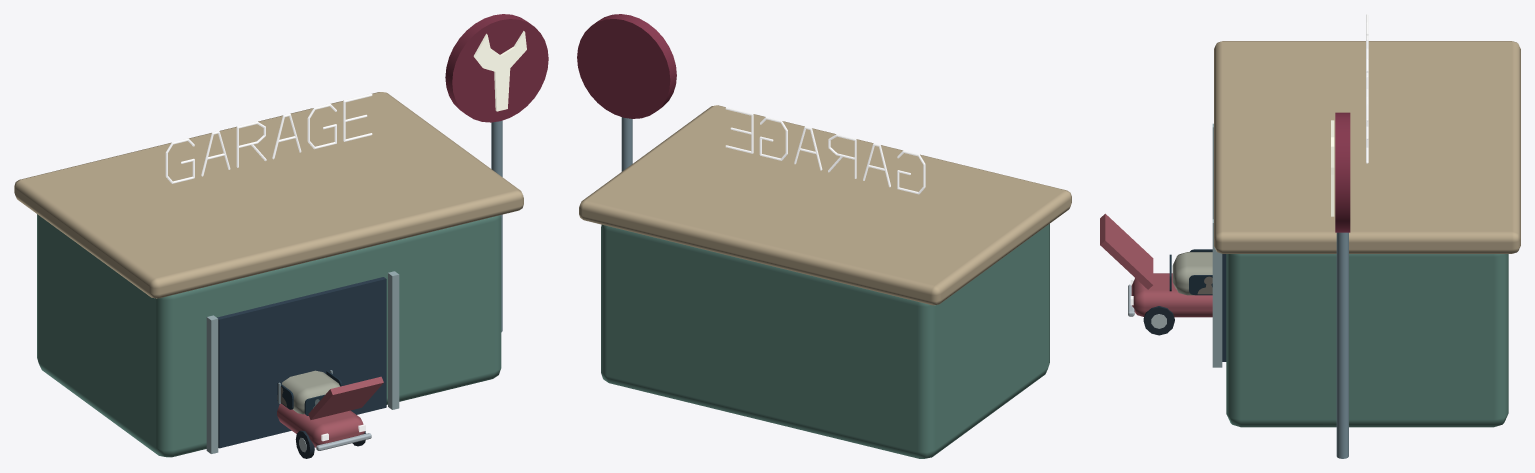
Rendered from garage-map.glb.
3 views of the same model, side by side, from view 1: azimuth 30°, elevation 25°; view 2: azimuth 150°, elevation 25°; view 3: azimuth 270°, elevation 25° (orthographic). The views are drawn at different scales.
Parts seen in each view (by area): view 1: garage; view 2: garage; view 3: garage.
Boxes of the visible parts, <box> form: garage: <box>14,14,548,458</box>; garage: <box>577,14,1071,458</box>; garage: <box>1100,14,1520,458</box>.
Bounding box in the file's own units: 4.59 × 3.04 × 3.43.
